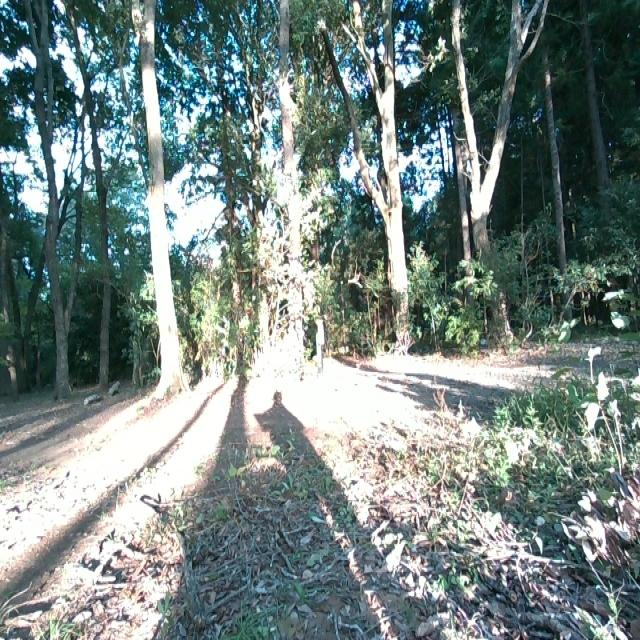bush: (530, 365, 640, 610), (509, 215, 637, 333), (176, 262, 267, 379), (410, 246, 480, 366), (323, 244, 386, 358)
tree: (454, 0, 521, 297), (131, 0, 180, 397), (368, 4, 411, 356), (44, 0, 77, 387), (273, 12, 304, 353)
